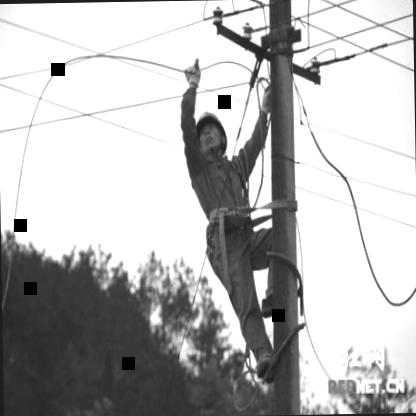helmet: (196, 103, 230, 162)
